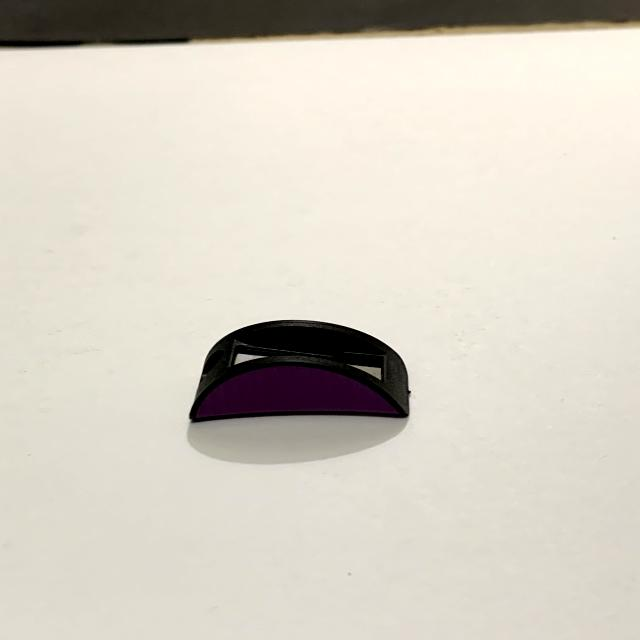Sharpner: (170, 299, 444, 444)
